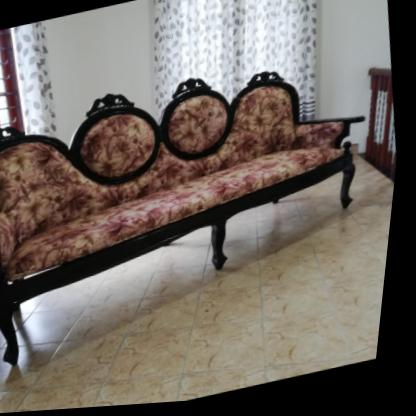Ceramic floor: (0, 167, 399, 414), (24, 180, 350, 376)
Curtains: (149, 0, 319, 126), (11, 21, 72, 135)
Sofa: (0, 42, 395, 371)
